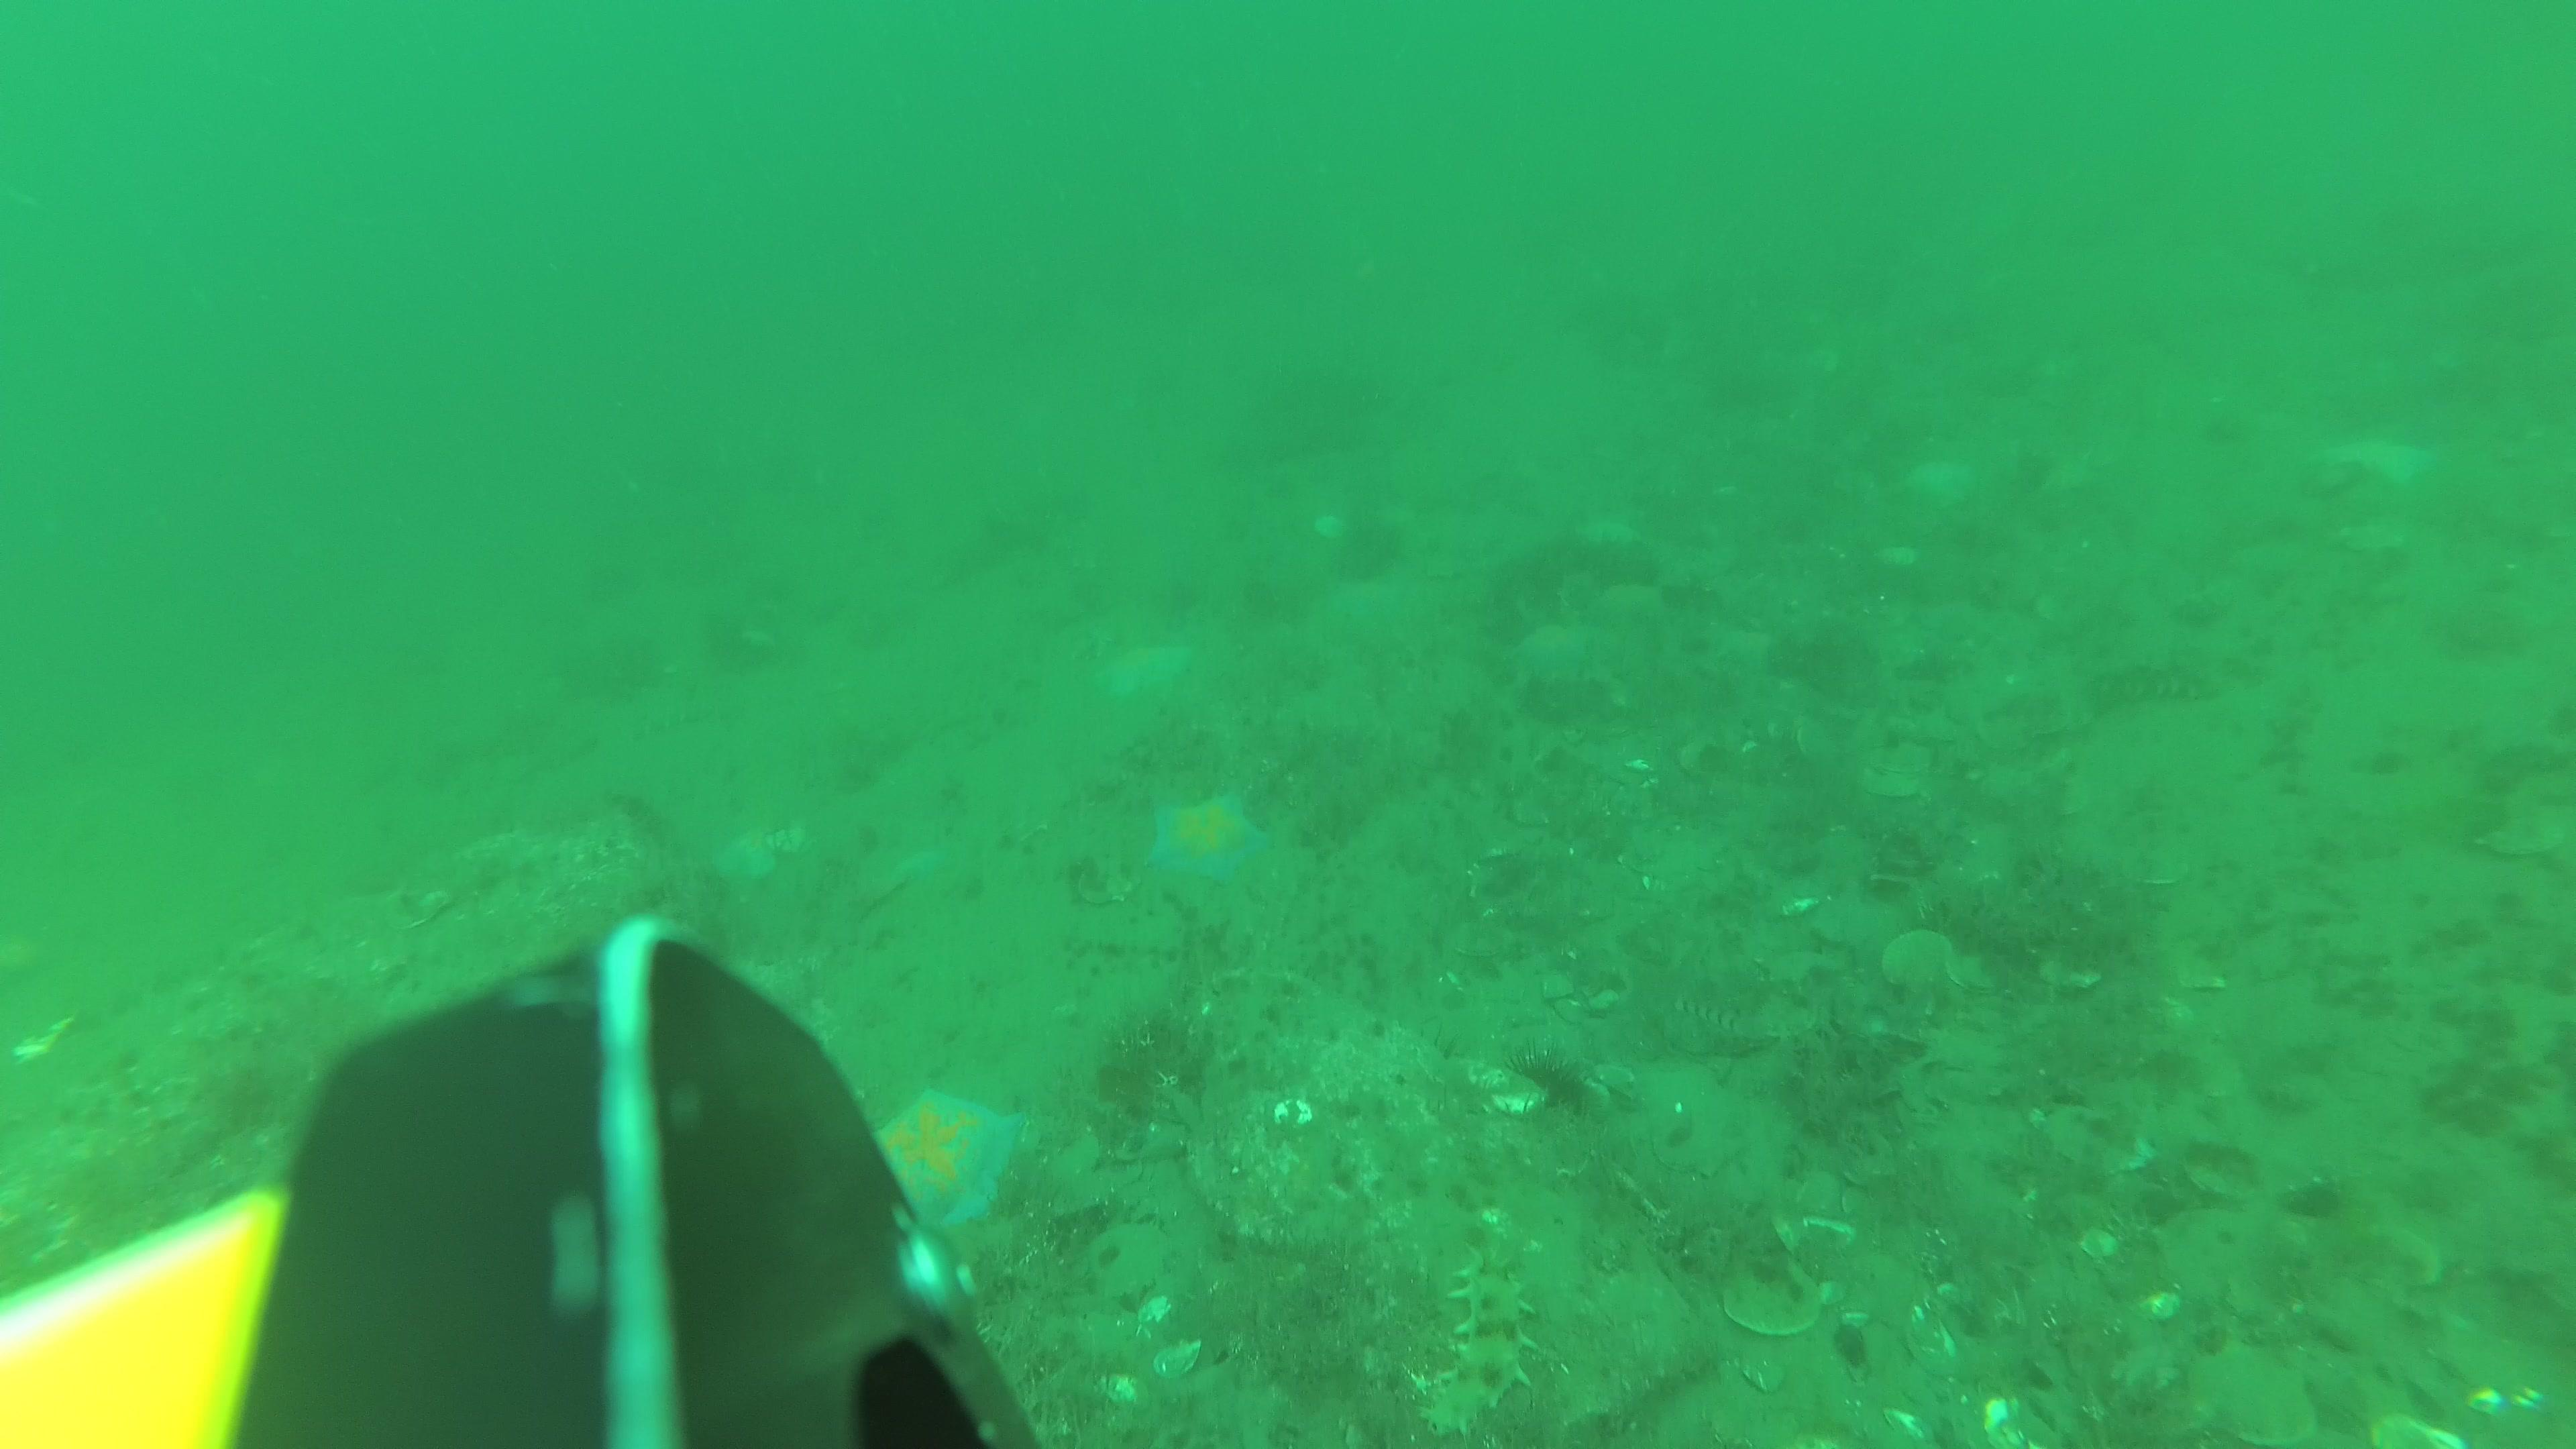echinus: (1500, 1030, 1605, 1131)
holothurian: (1419, 1246, 1543, 1438), (2079, 653, 2222, 718)
scallop: (2187, 1341, 2323, 1449), (1718, 1244, 1829, 1338), (2350, 1215, 2452, 1299), (2042, 1106, 2160, 1177), (1645, 1104, 1746, 1182), (1877, 913, 1955, 994), (2176, 1141, 2258, 1207), (2480, 809, 2574, 863), (1072, 853, 1139, 908), (2120, 839, 2194, 888), (1943, 947, 2010, 998), (2031, 948, 2104, 994), (1852, 761, 1927, 800), (1867, 741, 1943, 777)
starfish: (860, 1076, 1030, 1237), (1143, 782, 1265, 890), (1088, 633, 1198, 709), (2327, 423, 2436, 497), (704, 828, 800, 890), (1516, 609, 1594, 683), (1895, 448, 1976, 510), (872, 851, 950, 911)
